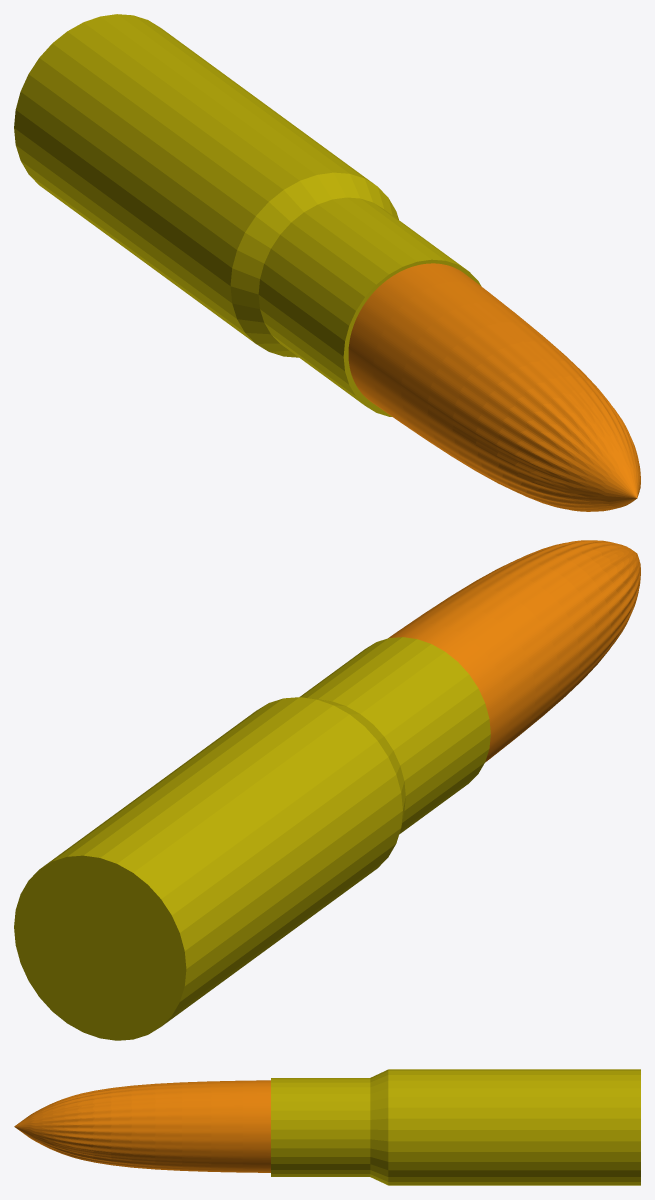
The model's file is bullet.fbx.
The picture shows the model from 3 angles, top to bottom: view 1: azimuth 30°, elevation 25°; view 2: azimuth 150°, elevation 25°; view 3: azimuth 270°, elevation 25°; orthographic projection. The views are drawn at different scales.
Parts seen in each view (by area): view 1: bullet; view 2: bullet; view 3: bullet.
Boxes of the visible parts, left/top/right/bottom form: bullet: left=14, top=14, right=640, bottom=511; bullet: left=14, top=540, right=640, bottom=1040; bullet: left=14, top=1069, right=640, bottom=1185.
Bounding box in the file's own units: 247 × 247 × 1334.
